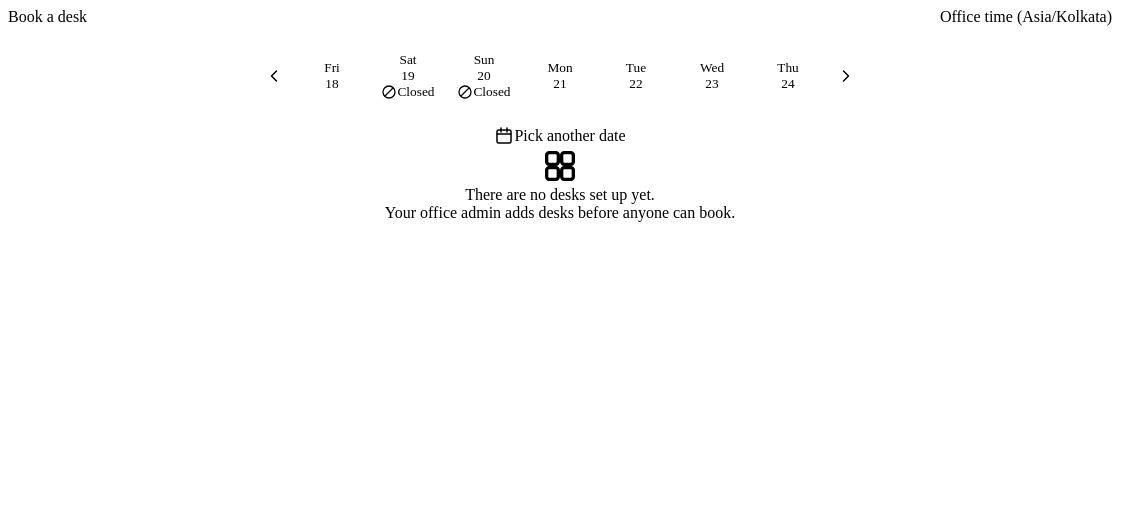
Test case: BookADesk (US-005/AC-01, AC-07, AC-08) › centres the calendar under the full-width strip rather than left-aligning it (US-005/AC-05, US-005/AC-06)
Click the button "Pick another date": (560, 136) [494,126,626,146]
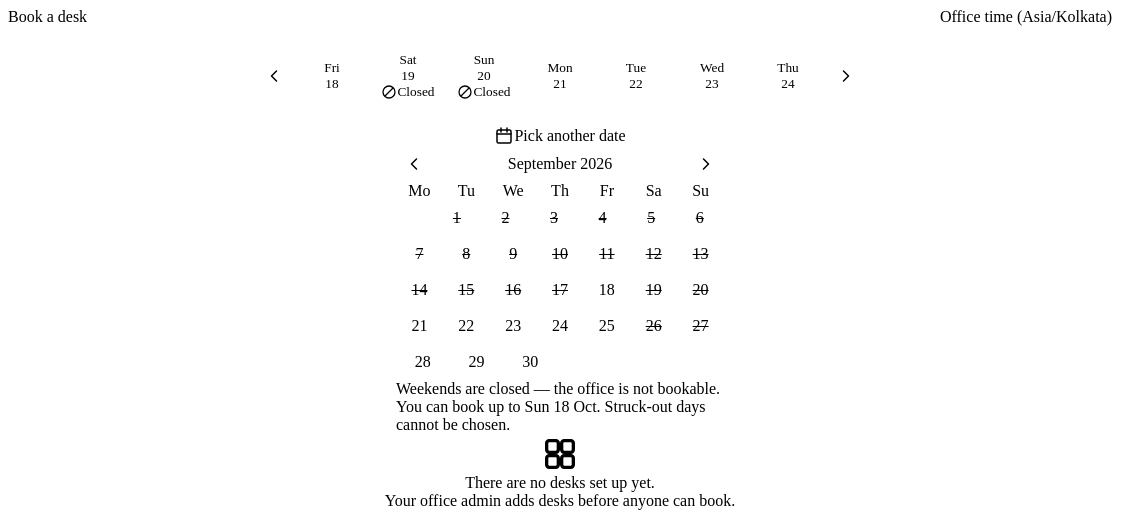
Now the text "September 2026" is shown, box [508,155,612,172]
